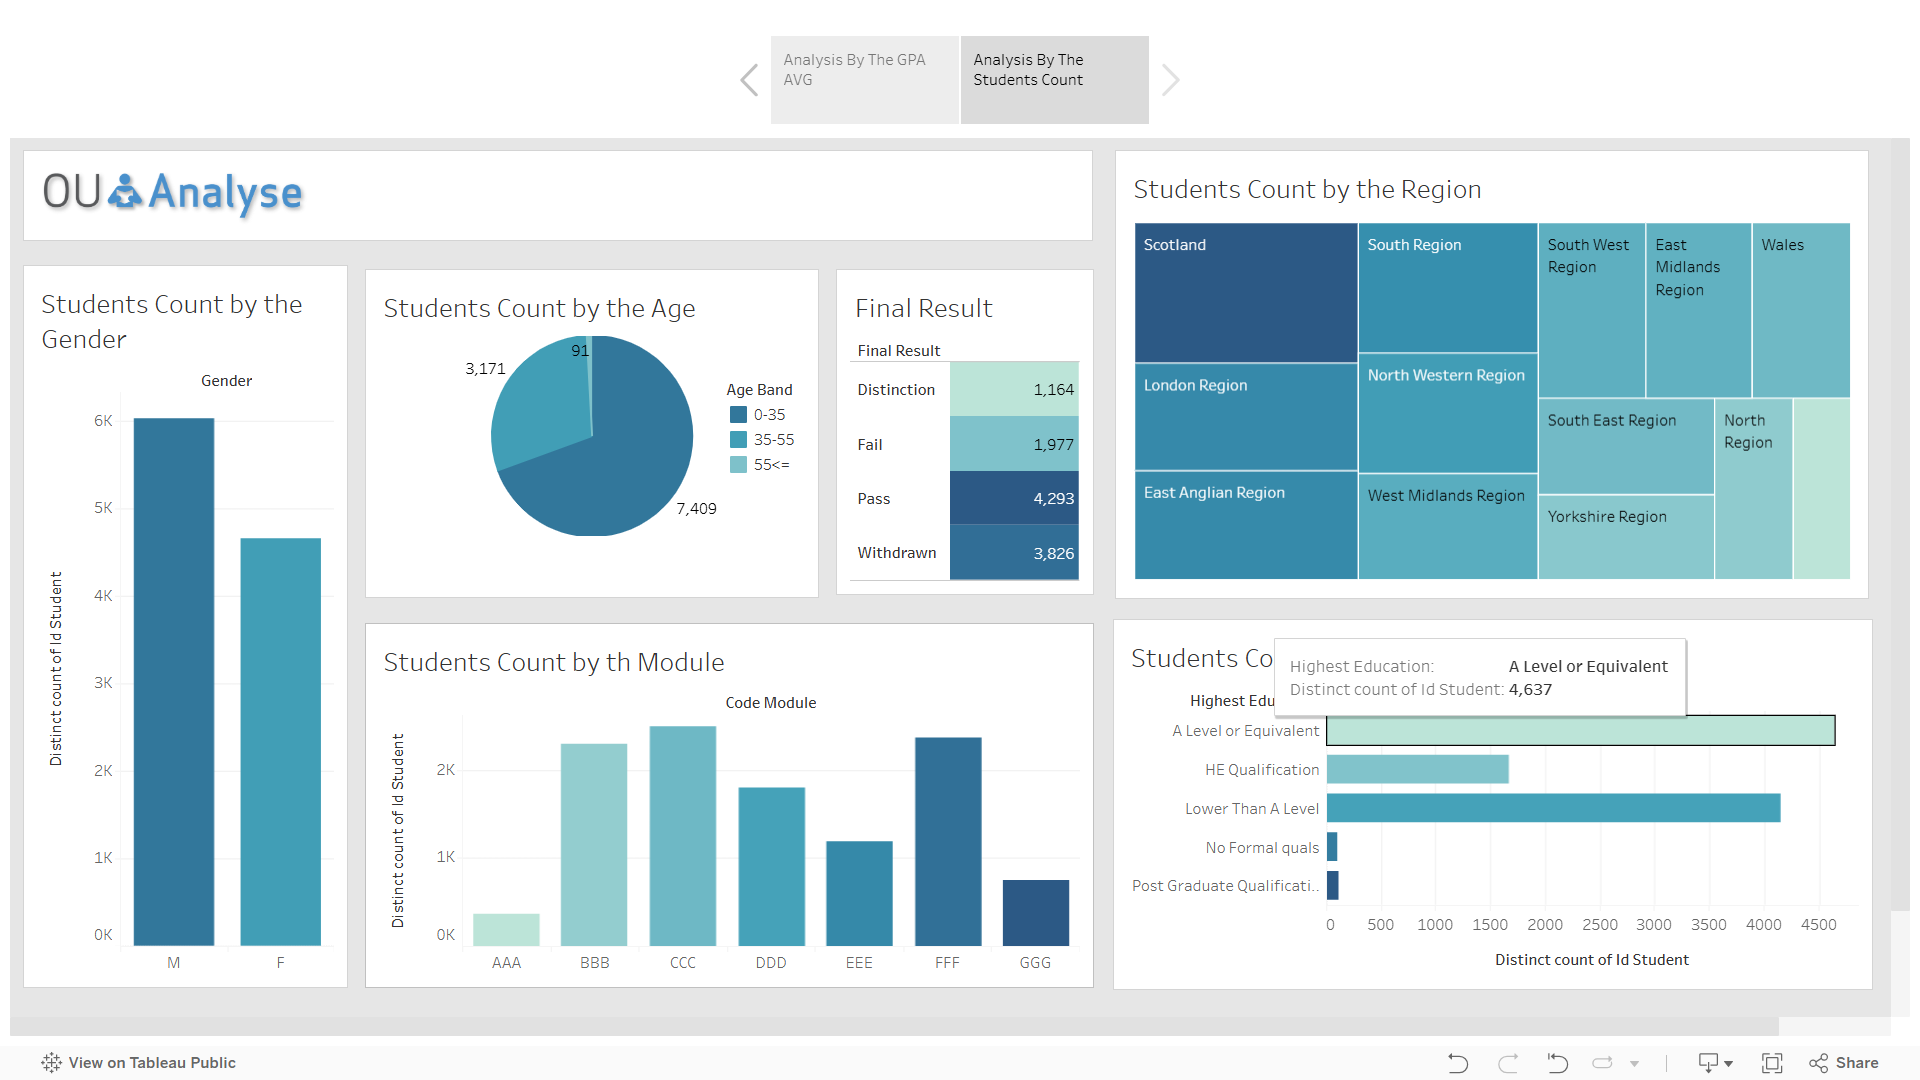

The page's visual inventory and layout, read from the dashboard file:
{"tool":"tableau","page":{"name":"Open University Student Count Analysis ","canvas":[1600,801],"ordinal":1},"visuals":[{"type":"image","param":"Image/logo_hires.png","box":[0,0,876.4,93]},{"type":"worksheet","title":"Students Count by the Region","mark":"Automatic","box":[874,0,623,379]},{"type":"worksheet","title":"Students Count by the Gender","mark":"Automatic","rows":["id_student"],"cols":["gender"],"box":[0,92,280,598]},{"type":"worksheet","title":"Students Count by the Age","mark":"Pie","box":[274,95,383,283]},{"type":"worksheet","title":"Count","mark":"Square","rows":["final_result"],"box":[651,95,226,281]},{"type":"legend","title":"Students Count by the Age","param":"[federated.0iegd7z1dbuuu61g8higs1w4z6ud].[none:age_band:nk]","box":[572.7,193,66.8,138]},{"type":"worksheet","title":"Students Count by the Previous education","mark":"Automatic","rows":["highest_education"],"cols":["id_student"],"box":[872,375,628,317]},{"type":"worksheet","title":"Students Count by th Module","mark":"Automatic","rows":["id_student"],"cols":["code_module"],"box":[274,378,603,312]}]}

Visuals, with their boxes on the page's 1600x801 design canvas (x1, y1, x2, y2). These are canvas units, not pixel positions in the 1920x1080 screenshot, which may show the page scaled, cropped or inside an application window:
image: bbox(0, 0, 876, 93)
"Students Count by the Region" worksheet: bbox(874, 0, 1497, 379)
"Students Count by the Gender" worksheet: bbox(0, 92, 280, 690)
"Students Count by the Age" worksheet (Pie marks): bbox(274, 95, 657, 378)
"Count" worksheet (Square marks): bbox(651, 95, 877, 376)
"Students Count by the Age" legend: bbox(573, 193, 640, 331)
"Students Count by the Previous education" worksheet: bbox(872, 375, 1500, 692)
"Students Count by th Module" worksheet: bbox(274, 378, 877, 690)
